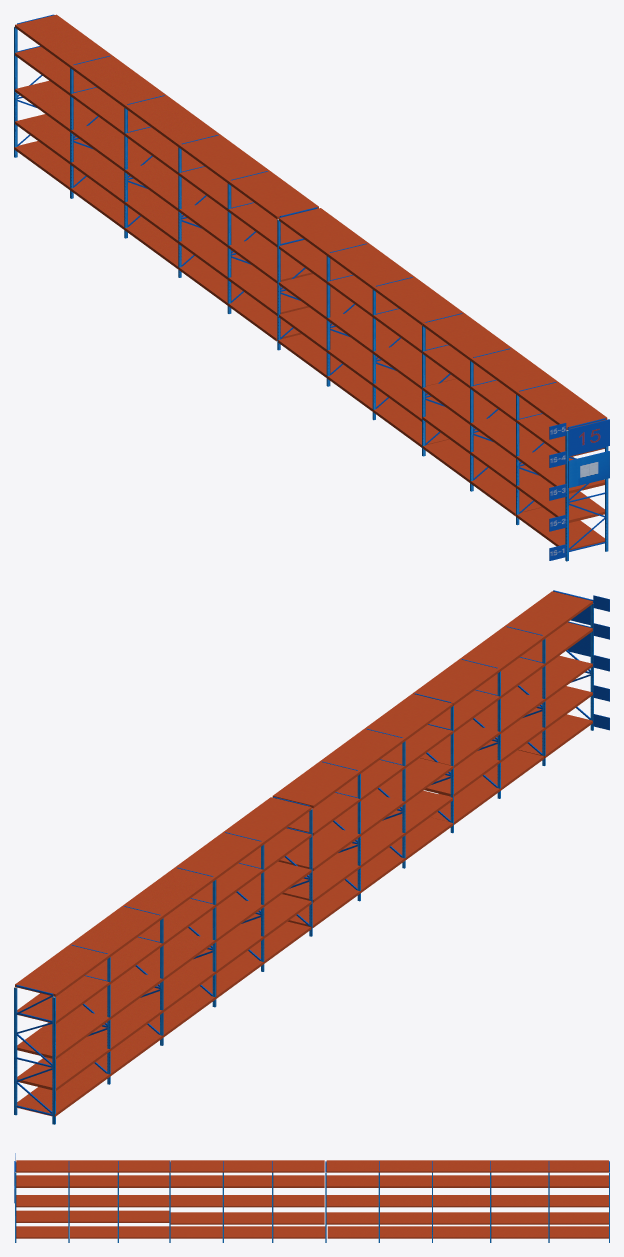
Rendered from Shelf15.FBX.
3 views of the same model, one above another, from view 1: azimuth 30°, elevation 25°; view 2: azimuth 150°, elevation 25°; view 3: azimuth 270°, elevation 25° (orthographic). The views are drawn at different scales.
Visible parts, largest first — view 1: 图形451, 15-5-11, 15-5-10, 15-5-09, 15-5-01, 15-5-07, 15-5-08, 15-5-04, 15-5-06, 15-5-03, 15-5-02, 15-5-05 (+46 smaller); view 2: 图形451, 15-5-11, 15-5-10, 15-5-09, 15-3-11, 15-5-08, 15-5-07, 15-5-04, 15-5-01, 15-5-06, 15-5-03, 15-5-05 (+44 smaller); view 3: 图形451, 15-5-11, 15-4-11, 15-2-11, 15-3-11, 15-5-09, 15-1-10, 15-1-11, 15-5-10, 15-4-10, 15-2-10, 15-3-10 (+44 smaller).
Part boxes in pixels (<box>): 图形451: <box>14,14,608,561</box>; 15-5-11: <box>15,14,111,67</box>; 15-5-10: <box>70,55,166,107</box>; 15-5-09: <box>125,95,220,147</box>; 15-5-01: <box>517,382,607,429</box>; 15-5-07: <box>228,170,318,218</box>; 15-5-08: <box>179,134,269,182</box>; 15-5-04: <box>373,277,463,324</box>; 15-5-06: <box>279,208,368,255</box>; 15-5-03: <box>422,313,511,360</box>; 15-5-02: <box>470,348,558,394</box>; 15-5-05: <box>326,243,414,289</box>; 图形451: <box>14,591,593,1124</box>; 15-5-11: <box>15,944,110,996</box>; 15-5-10: <box>70,906,162,956</box>; 15-5-09: <box>122,867,215,918</box>; 15-3-11: <box>17,1009,110,1059</box>; 15-5-08: <box>175,832,263,879</box>; 15-5-07: <box>223,797,311,844</box>; 15-5-04: <box>365,693,452,740</box>; 15-5-01: <box>505,591,592,637</box>; 15-5-06: <box>273,761,359,807</box>; 15-5-03: <box>413,659,499,705</box>; 15-5-05: <box>319,728,405,773</box>; 图形451: <box>15,1161,609,1242</box>; 15-5-11: <box>549,1160,608,1172</box>; 15-4-11: <box>549,1175,608,1187</box>; 15-2-11: <box>549,1212,608,1224</box>; 15-3-11: <box>549,1195,608,1207</box>; 15-5-09: <box>432,1160,490,1172</box>; 15-1-10: <box>491,1226,549,1238</box>; 15-1-11: <box>550,1226,608,1238</box>; 15-5-10: <box>490,1160,548,1172</box>; 15-4-10: <box>491,1175,548,1187</box>; 15-2-10: <box>491,1212,548,1224</box>; 15-3-10: <box>491,1195,548,1207</box>.
Bounding box in the file's own units: 1.14 × 18.58 × 2.56.
